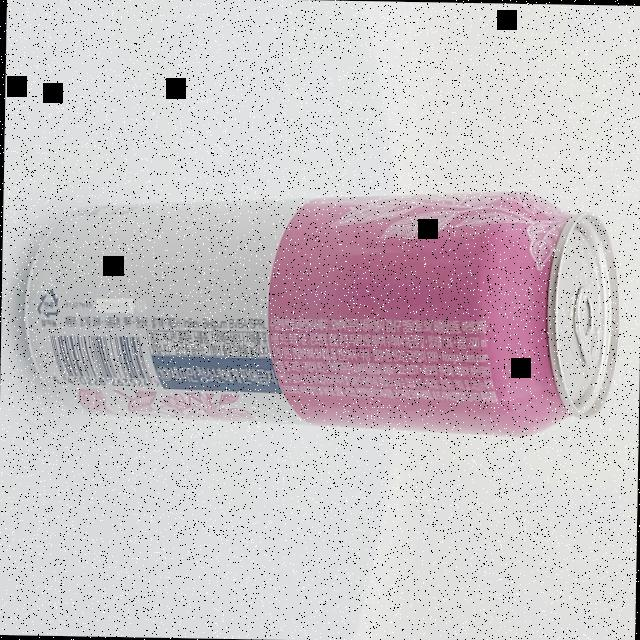can: (22, 182, 622, 438)
